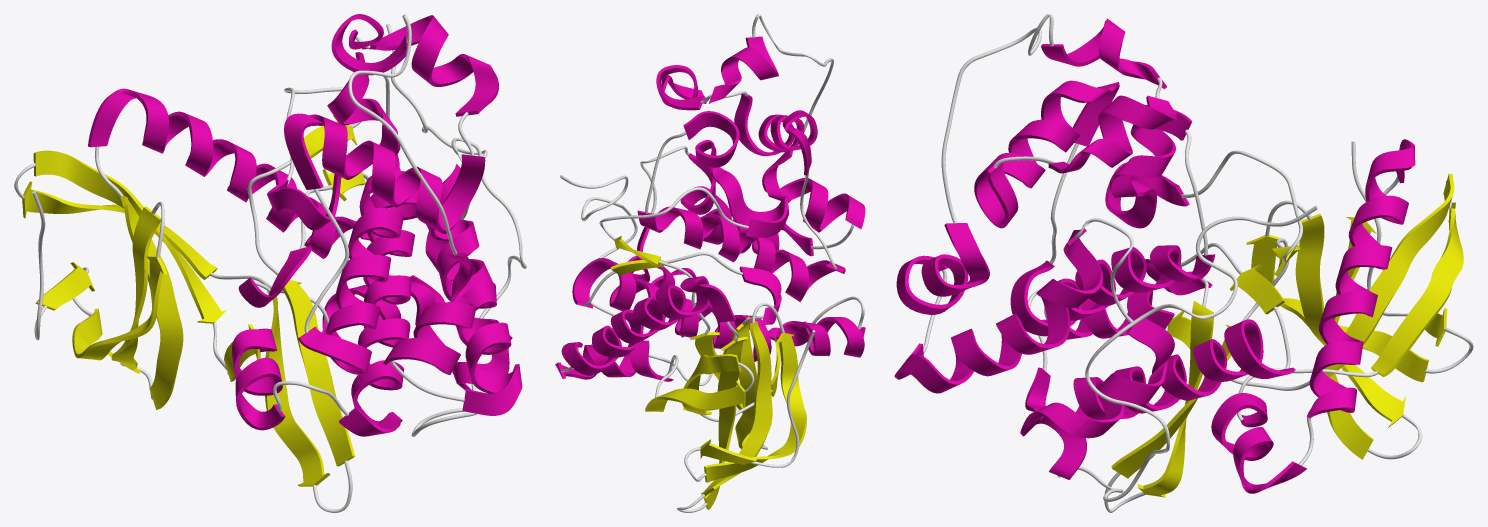
File: sky1_ribs.fbx
The picture shows the model from 3 angles, left to right: view 1: azimuth 30°, elevation 25°; view 2: azimuth 150°, elevation 25°; view 3: azimuth 270°, elevation 25°; orthographic projection. The views are drawn at different scales.
Visible parts, largest first — view 1: 1q8y_A_Helix9, 1q8y_A_Helix1, 1q8y_A_Helix8, 1q8y_A_Helix4, 1q8y_A_Helix13, 1q8y_A_Helix10, 1q8y_A_Helix12, 1q8y_A_Strand5, 1q8y_A_Strand9, 1q8y_A_Helix3, 1q8y_A_Strand4, 1q8y_A_Strand8 (+18 smaller); view 2: 1q8y_A_Helix1, 1q8y_A_Helix8, 1q8y_A_Helix4, 1q8y_A_Helix12, 1q8y_A_Helix9, 1q8y_A_Strand2, 1q8y_A_Strand3, 1q8y_A_Helix7, 1q8y_A_Helix11, 1q8y_A_Helix3, 1q8y_A_Helix6, 1q8y_A_Helix2 (+19 smaller); view 3: 1q8y_A_Helix1, 1q8y_A_Helix4, 1q8y_A_Helix9, 1q8y_A_Helix8, 1q8y_A_Helix13, 1q8y_A_Helix12, 1q8y_A_Strand3, 1q8y_A_Strand6, 1q8y_A_Helix10, 1q8y_A_Helix15, 1q8y_A_Strand5, 1q8y_A_Helix2 (+16 smaller).
Part boxes in pixels (x1,y1,x2,y2): 1q8y_A_Helix9: (284, 113, 485, 233); 1q8y_A_Helix1: (88, 88, 369, 258); 1q8y_A_Helix8: (298, 154, 404, 374); 1q8y_A_Helix4: (339, 190, 418, 436); 1q8y_A_Helix13: (437, 227, 522, 415); 1q8y_A_Helix10: (362, 15, 498, 116); 1q8y_A_Helix12: (383, 250, 476, 374); 1q8y_A_Strand5: (33, 150, 226, 323); 1q8y_A_Strand9: (282, 280, 355, 466); 1q8y_A_Helix3: (232, 328, 285, 430); 1q8y_A_Strand4: (120, 195, 183, 409); 1q8y_A_Strand8: (265, 292, 330, 486); 1q8y_A_Helix1: (561, 276, 735, 375); 1q8y_A_Helix8: (637, 206, 845, 301); 1q8y_A_Helix4: (572, 258, 810, 361); 1q8y_A_Helix12: (762, 144, 865, 232); 1q8y_A_Helix9: (734, 94, 817, 175); 1q8y_A_Strand2: (704, 333, 806, 482); 1q8y_A_Strand3: (701, 321, 772, 495); 1q8y_A_Helix7: (683, 111, 739, 191); 1q8y_A_Helix11: (709, 36, 778, 103); 1q8y_A_Helix3: (775, 317, 865, 357); 1q8y_A_Helix6: (725, 179, 789, 237); 1q8y_A_Helix2: (555, 340, 673, 381); 1q8y_A_Helix1: (1307, 139, 1415, 418); 1q8y_A_Helix4: (1025, 319, 1295, 419); 1q8y_A_Helix9: (974, 80, 1119, 228); 1q8y_A_Helix8: (1010, 245, 1215, 336); 1q8y_A_Helix13: (894, 279, 1070, 393); 1q8y_A_Helix12: (896, 223, 989, 314); 1q8y_A_Strand3: (1295, 213, 1406, 427); 1q8y_A_Strand6: (1371, 202, 1463, 377); 1q8y_A_Helix10: (1048, 95, 1177, 173); 1q8y_A_Helix15: (1073, 314, 1174, 438); 1q8y_A_Strand5: (1324, 173, 1454, 376); 1q8y_A_Helix2: (1211, 393, 1306, 493).
Bounding box in the file's own units: 42.79 × 54.1 × 54.96.
